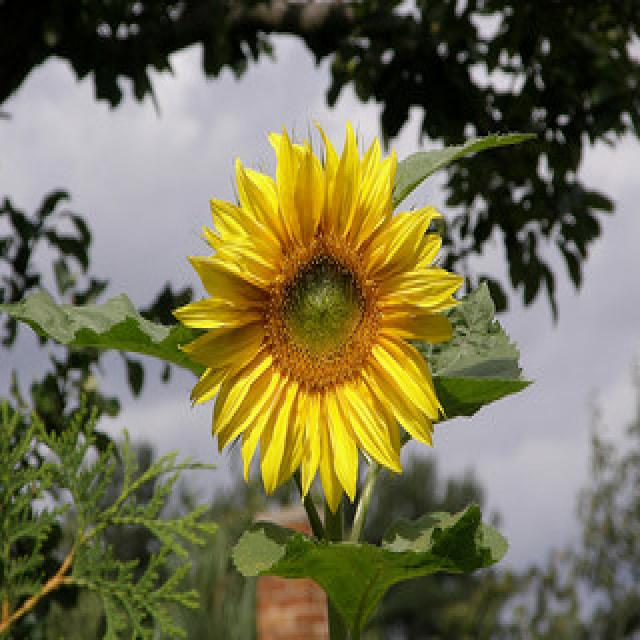sunflower: (168, 109, 468, 515)
